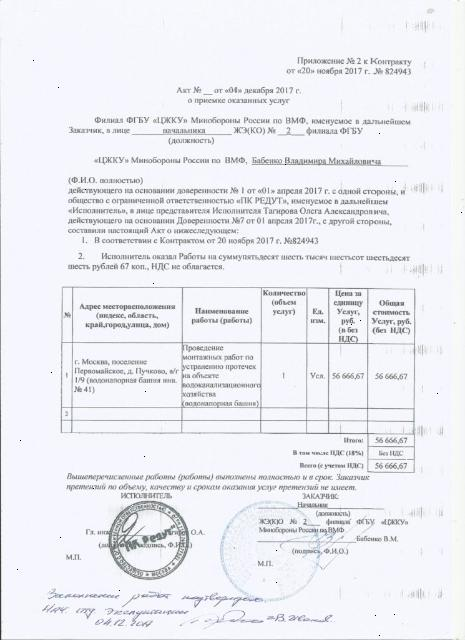stamp: (110, 502, 190, 582)
